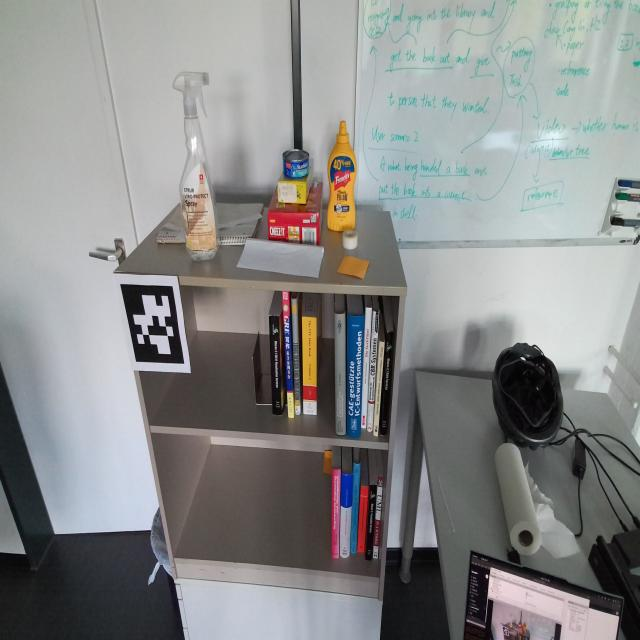Book Spine: (347, 315, 364, 438), (367, 311, 380, 432), (379, 331, 394, 434), (282, 291, 294, 419), (334, 313, 346, 436), (302, 316, 317, 414), (269, 314, 283, 416), (361, 308, 372, 428), (373, 342, 385, 437), (340, 472, 353, 557), (292, 298, 300, 415), (366, 484, 377, 561), (373, 475, 383, 558), (357, 485, 369, 553), (351, 463, 360, 553), (332, 469, 341, 559)
